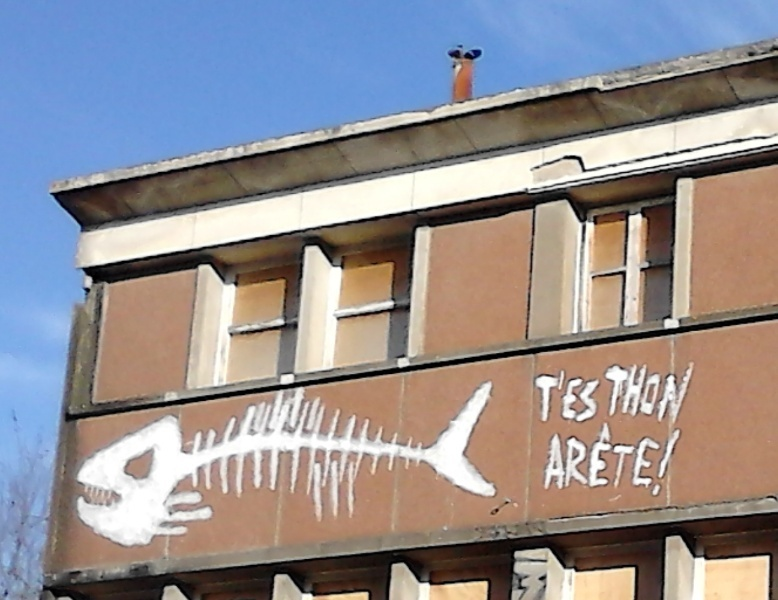text: (561, 417, 576, 498), (577, 417, 592, 498), (593, 417, 608, 498), (609, 417, 624, 498), (625, 417, 640, 498), (641, 417, 656, 498), (657, 417, 672, 498), (673, 417, 687, 498), (547, 417, 560, 498), (609, 358, 624, 425), (625, 358, 640, 425), (641, 358, 656, 425), (657, 358, 672, 425), (673, 358, 688, 425), (545, 367, 560, 425), (561, 367, 576, 425), (577, 367, 592, 425), (689, 358, 697, 425), (535, 367, 544, 425), (593, 367, 602, 425), (607, 358, 608, 425)
